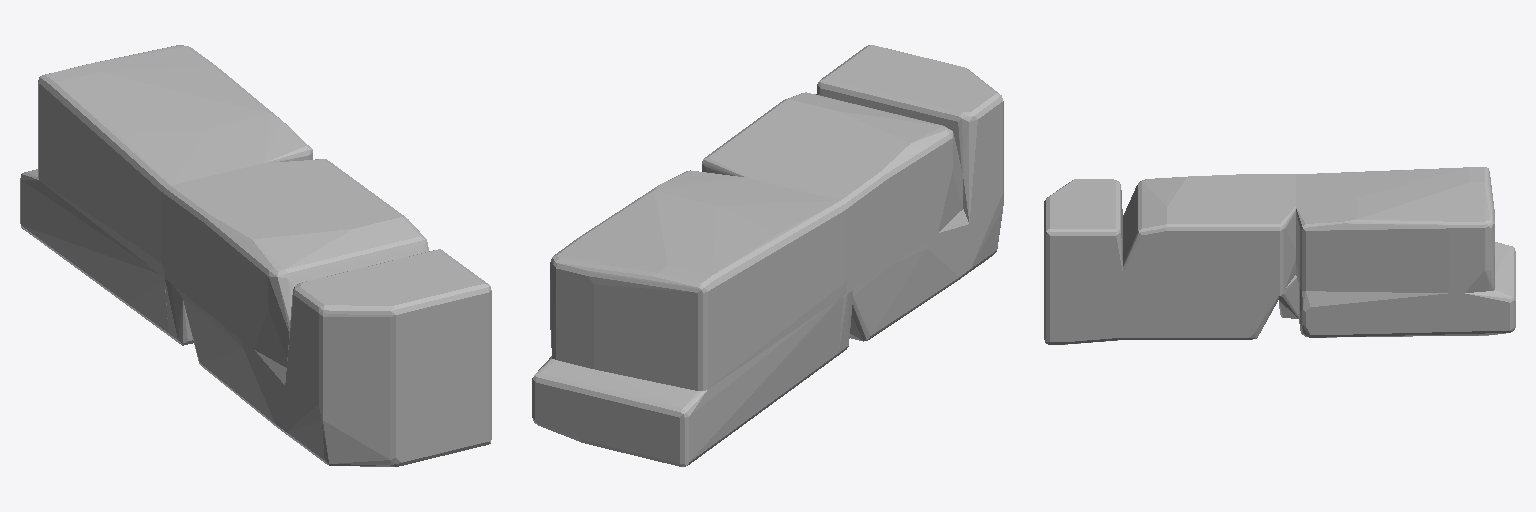
The robot description file, URDF, robot "root":
<robot name="root">
  <link name="link_coacd_convex_piece_0">
    <inertial>
      <origin xyz="0 0 0" rpy="0 0 0"/>
      <inertia ixx="3.52E-02" ixy="-1.16E-05" ixz="2.62E-04" iyy="3.51E-02" iyz="1.23E-03" izz="2.32E-03"/>
    </inertial>
    <visual>
      <origin xyz="0 0 0" rpy="0 0 0"/>
      <geometry>
        <mesh filename="coacd_convex_piece_0.obj" scale="1.0000E+00 1.0000E+00 1.0000E+00"/>
      </geometry>
      <material name="">
        <color rgba="7.50E-01 7.50E-01 7.50E-01 1"/>
      </material>
    </visual>
    <collision>
      <origin xyz="0 0 0" rpy="0 0 0"/>
      <geometry>
        <mesh filename="coacd_convex_piece_0.obj" scale="1.0000E+00 1.0000E+00 1.0000E+00"/>
      </geometry>
    </collision>
  </link>
  <link name="link_coacd_convex_piece_1">
    <inertial>
      <origin xyz="0 0 0" rpy="0 0 0"/>
      <inertia ixx="2.26E-02" ixy="-6.76E-05" ixz="-2.51E-04" iyy="2.25E-02" iyz="-4.83E-03" izz="3.05E-03"/>
    </inertial>
    <visual>
      <origin xyz="0 0 0" rpy="0 0 0"/>
      <geometry>
        <mesh filename="coacd_convex_piece_1.obj" scale="1.0000E+00 1.0000E+00 1.0000E+00"/>
      </geometry>
      <material name="">
        <color rgba="7.50E-01 7.50E-01 7.50E-01 1"/>
      </material>
    </visual>
    <collision>
      <origin xyz="0 0 0" rpy="0 0 0"/>
      <geometry>
        <mesh filename="coacd_convex_piece_1.obj" scale="1.0000E+00 1.0000E+00 1.0000E+00"/>
      </geometry>
    </collision>
  </link>
  <joint name="link_coacd_convex_piece_1_joint" type="fixed">
    <origin xyz="0 0 0" rpy="0 0 0"/>
    <parent link="link_coacd_convex_piece_0"/>
    <child link="link_coacd_convex_piece_1"/>
  </joint>
  <link name="link_coacd_convex_piece_2">
    <inertial>
      <origin xyz="0 0 0" rpy="0 0 0"/>
      <inertia ixx="2.65E-02" ixy="-6.09E-06" ixz="-1.96E-04" iyy="2.66E-02" iyz="4.95E-03" izz="3.90E-03"/>
    </inertial>
    <visual>
      <origin xyz="0 0 0" rpy="0 0 0"/>
      <geometry>
        <mesh filename="coacd_convex_piece_2.obj" scale="1.0000E+00 1.0000E+00 1.0000E+00"/>
      </geometry>
      <material name="">
        <color rgba="7.50E-01 7.50E-01 7.50E-01 1"/>
      </material>
    </visual>
    <collision>
      <origin xyz="0 0 0" rpy="0 0 0"/>
      <geometry>
        <mesh filename="coacd_convex_piece_2.obj" scale="1.0000E+00 1.0000E+00 1.0000E+00"/>
      </geometry>
    </collision>
  </link>
  <joint name="link_coacd_convex_piece_2_joint" type="fixed">
    <origin xyz="0 0 0" rpy="0 0 0"/>
    <parent link="link_coacd_convex_piece_1"/>
    <child link="link_coacd_convex_piece_2"/>
  </joint>
  <link name="link_coacd_convex_piece_3">
    <inertial>
      <origin xyz="0 0 0" rpy="0 0 0"/>
      <inertia ixx="7.73E-03" ixy="4.79E-05" ixz="-1.20E-04" iyy="7.37E-03" iyz="2.46E-03" izz="2.28E-03"/>
    </inertial>
    <visual>
      <origin xyz="0 0 0" rpy="0 0 0"/>
      <geometry>
        <mesh filename="coacd_convex_piece_3.obj" scale="1.0000E+00 1.0000E+00 1.0000E+00"/>
      </geometry>
      <material name="">
        <color rgba="7.50E-01 7.50E-01 7.50E-01 1"/>
      </material>
    </visual>
    <collision>
      <origin xyz="0 0 0" rpy="0 0 0"/>
      <geometry>
        <mesh filename="coacd_convex_piece_3.obj" scale="1.0000E+00 1.0000E+00 1.0000E+00"/>
      </geometry>
    </collision>
  </link>
  <joint name="link_coacd_convex_piece_3_joint" type="fixed">
    <origin xyz="0 0 0" rpy="0 0 0"/>
    <parent link="link_coacd_convex_piece_2"/>
    <child link="link_coacd_convex_piece_3"/>
  </joint>
  <link name="link_coacd_convex_piece_4">
    <inertial>
      <origin xyz="0 0 0" rpy="0 0 0"/>
      <inertia ixx="9.66E-03" ixy="-7.84E-05" ixz="-1.64E-04" iyy="1.01E-02" iyz="-1.76E-03" izz="2.79E-03"/>
    </inertial>
    <visual>
      <origin xyz="0 0 0" rpy="0 0 0"/>
      <geometry>
        <mesh filename="coacd_convex_piece_4.obj" scale="1.0000E+00 1.0000E+00 1.0000E+00"/>
      </geometry>
      <material name="">
        <color rgba="7.50E-01 7.50E-01 7.50E-01 1"/>
      </material>
    </visual>
    <collision>
      <origin xyz="0 0 0" rpy="0 0 0"/>
      <geometry>
        <mesh filename="coacd_convex_piece_4.obj" scale="1.0000E+00 1.0000E+00 1.0000E+00"/>
      </geometry>
    </collision>
  </link>
  <joint name="link_coacd_convex_piece_4_joint" type="fixed">
    <origin xyz="0 0 0" rpy="0 0 0"/>
    <parent link="link_coacd_convex_piece_3"/>
    <child link="link_coacd_convex_piece_4"/>
  </joint>
  <link name="link_coacd_convex_piece_5">
    <inertial>
      <origin xyz="0 0 0" rpy="0 0 0"/>
      <inertia ixx="1.10E-04" ixy="3.50E-05" ixz="9.56E-06" iyy="8.71E-05" iyz="-2.29E-05" izz="1.81E-04"/>
    </inertial>
    <visual>
      <origin xyz="0 0 0" rpy="0 0 0"/>
      <geometry>
        <mesh filename="coacd_convex_piece_5.obj" scale="1.0000E+00 1.0000E+00 1.0000E+00"/>
      </geometry>
      <material name="">
        <color rgba="7.50E-01 7.50E-01 7.50E-01 1"/>
      </material>
    </visual>
    <collision>
      <origin xyz="0 0 0" rpy="0 0 0"/>
      <geometry>
        <mesh filename="coacd_convex_piece_5.obj" scale="1.0000E+00 1.0000E+00 1.0000E+00"/>
      </geometry>
    </collision>
  </link>
  <joint name="link_coacd_convex_piece_5_joint" type="fixed">
    <origin xyz="0 0 0" rpy="0 0 0"/>
    <parent link="link_coacd_convex_piece_4"/>
    <child link="link_coacd_convex_piece_5"/>
  </joint>
</robot>

--- What the picture shows (computed from the rendered views, not written in the file) ---
The picture shows the robot from 3 angles, left to right: view 1: azimuth 30°, elevation 25°; view 2: azimuth 150°, elevation 25°; view 3: azimuth 270°, elevation 25°; orthographic projection.
Robot: root — 6 links, 5 joints (5 fixed); root link link_coacd_convex_piece_0; default pose: every joint at zero.
Links seen in each view (by area): view 1: link_coacd_convex_piece_0, link_coacd_convex_piece_2, link_coacd_convex_piece_4, link_coacd_convex_piece_1, link_coacd_convex_piece_3, link_coacd_convex_piece_5; view 2: link_coacd_convex_piece_2, link_coacd_convex_piece_4, link_coacd_convex_piece_1, link_coacd_convex_piece_0, link_coacd_convex_piece_3, link_coacd_convex_piece_5; view 3: link_coacd_convex_piece_2, link_coacd_convex_piece_4, link_coacd_convex_piece_0, link_coacd_convex_piece_1, link_coacd_convex_piece_3, link_coacd_convex_piece_5.
Boxes of the visible links, x1,y1,x2,y2 form: link_coacd_convex_piece_0: (285,249,491,466); link_coacd_convex_piece_2: (38,45,312,277); link_coacd_convex_piece_4: (164,159,428,367); link_coacd_convex_piece_1: (20,169,169,335); link_coacd_convex_piece_3: (183,293,286,434); link_coacd_convex_piece_5: (165,279,193,345); link_coacd_convex_piece_2: (550,170,846,390); link_coacd_convex_piece_4: (702,92,962,293); link_coacd_convex_piece_1: (532,297,842,466); link_coacd_convex_piece_0: (816,45,1003,272); link_coacd_convex_piece_3: (850,209,969,341); link_coacd_convex_piece_5: (838,290,852,355); link_coacd_convex_piece_2: (1296,167,1494,292); link_coacd_convex_piece_4: (1123,174,1295,294); link_coacd_convex_piece_0: (1044,179,1122,344); link_coacd_convex_piece_1: (1299,242,1515,337); link_coacd_convex_piece_3: (1123,295,1278,339); link_coacd_convex_piece_5: (1279,275,1298,318).
Bounding box of the posed robot: 0.52 × 1.84 × 0.56 m (x, y, z).
6 mesh visuals loaded from 6 distinct referenced files (6 OBJ).
